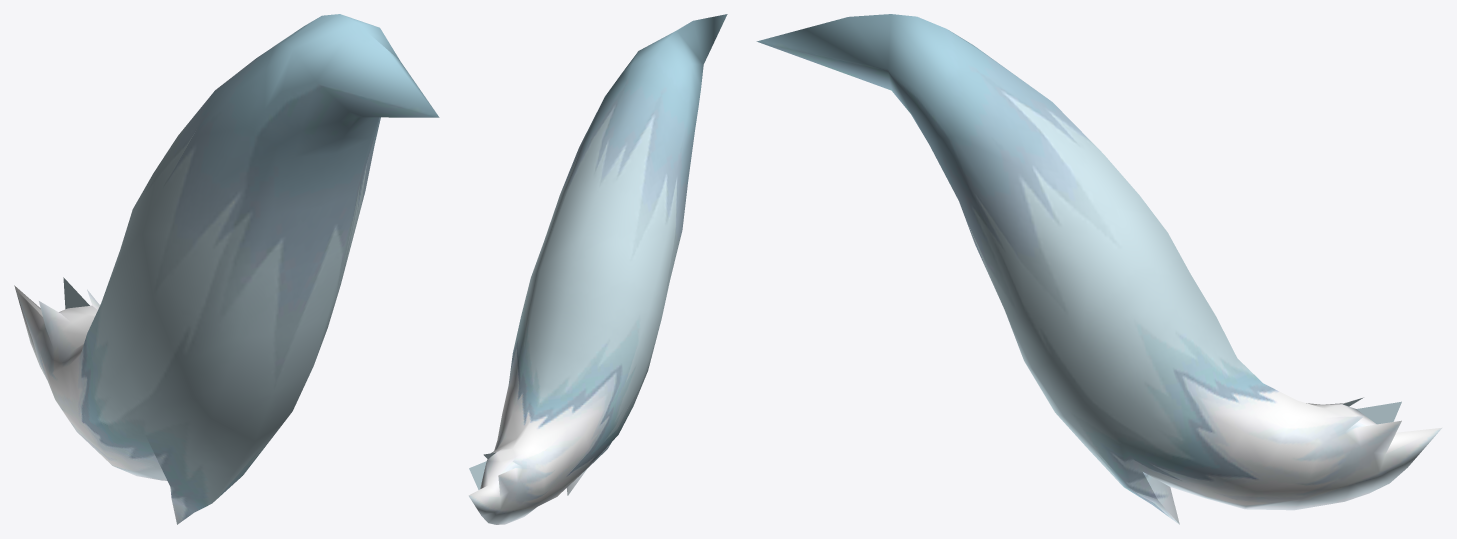
Rendered from acc_back0078.fbx.
3 renders of one model, left to right at view 1: azimuth 30°, elevation 25°; view 2: azimuth 150°, elevation 25°; view 3: azimuth 270°, elevation 25°, orthographic. The views are drawn at different scales.
Parts seen in each view (by area): view 1: acc_back0078_m; view 2: acc_back0078_m; view 3: acc_back0078_m.
Part boxes in pixels (box(x1,y1,x2,y2)): acc_back0078_m: box(14, 14, 439, 524); acc_back0078_m: box(468, 14, 727, 524); acc_back0078_m: box(756, 14, 1442, 524).
Bounding box in the file's own units: 0.1092 × 0.3386 × 0.4121.
